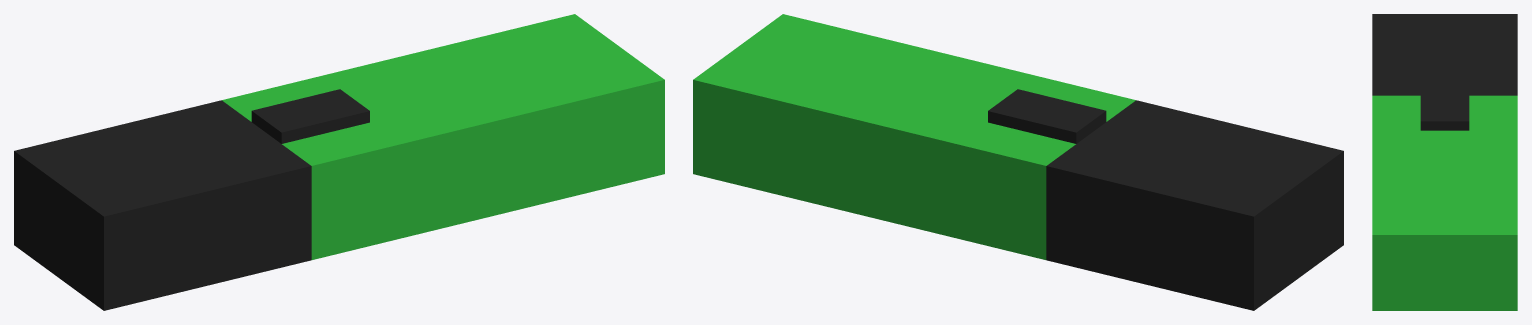
File: Maker.fbx
3 renders of one model, left to right at view 1: azimuth 30°, elevation 25°; view 2: azimuth 150°, elevation 25°; view 3: azimuth 270°, elevation 25°, orthographic. The views are drawn at different scales.
Parts seen in each view (by area): view 1: Maker; view 2: Maker; view 3: Maker.
Part boxes in pixels (x1=…): Maker: x1=14, y1=14, x2=664, y2=310; Maker: x1=693, y1=14, x2=1343, y2=310; Maker: x1=1372, y1=14, x2=1517, y2=310.
Bounding box in the file's own units: 0.1452 × 0.0262 × 0.0403.
